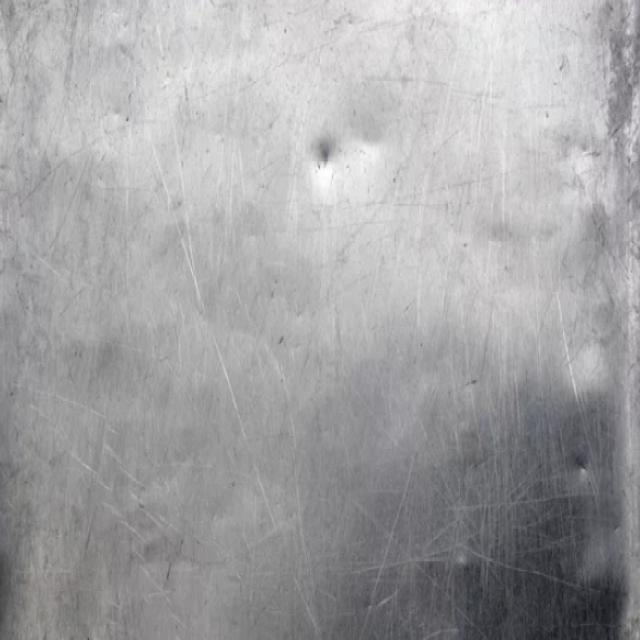dents: (304, 134, 348, 188), (566, 446, 606, 494)
